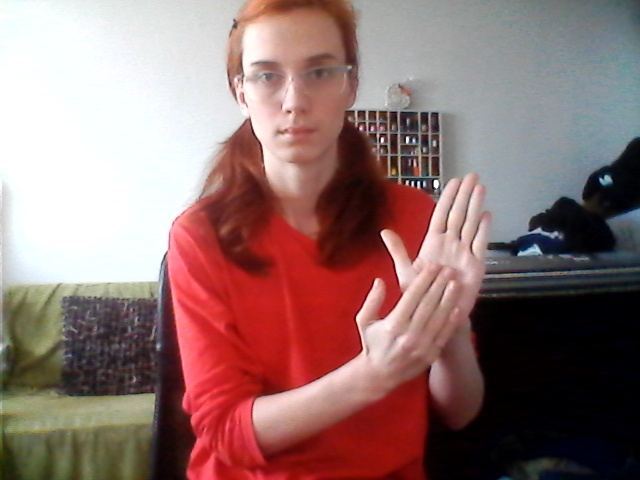m: (356, 168, 494, 397)
